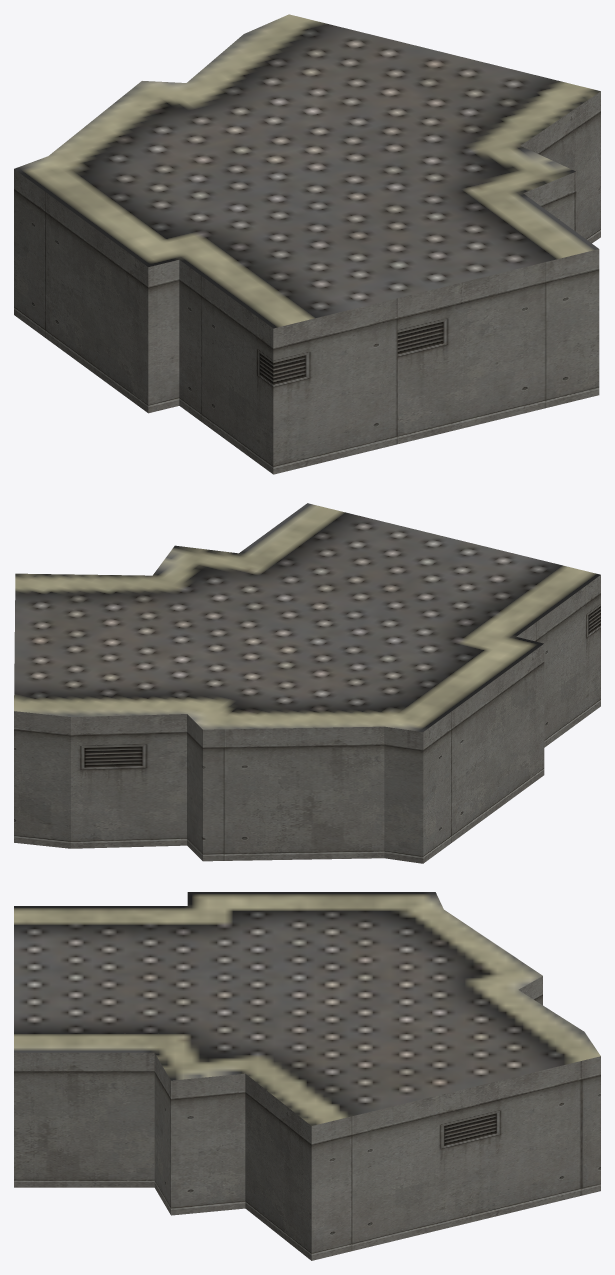
Rendered from building_medium_a_10.glb.
3 renders of one model, top to bottom at view 1: azimuth 30°, elevation 25°; view 2: azimuth 150°, elevation 25°; view 3: azimuth 270°, elevation 25°, orthographic. The views are drawn at different scales.
Visible parts, largest first — view 1: buildings/saxarba/building_medium/building_medium_a_10; view 2: buildings/saxarba/building_medium/building_medium_a_10; view 3: buildings/saxarba/building_medium/building_medium_a_10.
Boxes of the visible parts, x1,y1,x2,y2 form: buildings/saxarba/building_medium/building_medium_a_10: (14,14,600,474); buildings/saxarba/building_medium/building_medium_a_10: (14,503,600,863); buildings/saxarba/building_medium/building_medium_a_10: (14,892,600,1260).
Bounding box in the file's own units: 67 × 18 × 71.
